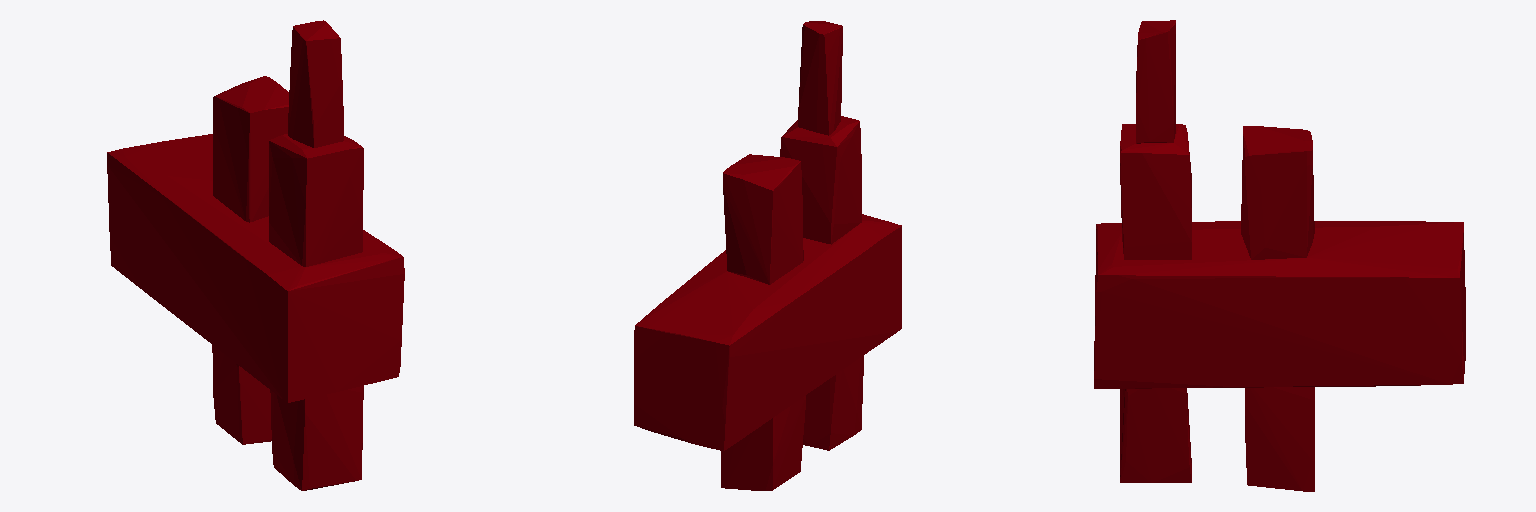
The robot description file, URDF, robot "blob589":
<robot name="blob589">
  <link name="random_obj_589">
    <contact>
      <lateral_friction value="1.0"/>
      <rolling_friction value="0.0"/>
      <inertia_scaling value="3.0"/>
      <contact_cfm value="0.0"/>
      <contact_erp value="1.0"/>
    </contact>
    <inertial>
      <origin rpy="0 0 0" xyz="0 0 0"/>
      <mass value="0.1"/>
      <inertia ixx="1" ixy="0" ixz="0" iyy="1" iyz="0" izz="0"/>
    </inertial>
    <visual>
      <origin rpy="0 0 0" xyz="0 0 0"/>
      <geometry>
        <mesh filename="589.obj" scale="0.015 0.015 0.015"/>
      </geometry>
      <material name="blockmat">
        <color rgba="0.51 0.01 0.05 1"/>
      </material>
    </visual>
    <collision>
      <origin rpy="0 0 0" xyz="0 0 0"/>
      <geometry>
        <mesh filename="589.obj" scale="0.015 0.015 0.015"/>
      </geometry>
    </collision>
  </link>
</robot>

--- What the picture shows (computed from the rendered views, not written in the file) ---
Views: 3 orthographic renders of the robot side by side, from view 1: azimuth 30°, elevation 25°; view 2: azimuth 150°, elevation 25°; view 3: azimuth 270°, elevation 25°.
Model blob589 with 1 links and 0 joints (none), rooted at random_obj_589, posed all joints at 0.
Visible links, largest first — view 1: random_obj_589; view 2: random_obj_589; view 3: random_obj_589.
Boxes of the visible links, x1,y1,x2,y2 form: random_obj_589: (107,20,404,490); random_obj_589: (634,21,901,490); random_obj_589: (1094,20,1465,491).
Size in the robot's own frame: 0.0331 by 0.0911 by 0.1223 metres.
1 mesh visuals loaded from 1 distinct referenced files (1 OBJ).